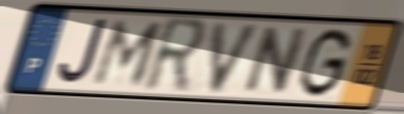G: (297, 25, 354, 100)
J: (56, 17, 110, 87)
M: (89, 18, 168, 87)
N: (239, 24, 312, 96)
R: (139, 14, 211, 96)
V: (208, 21, 266, 97)
